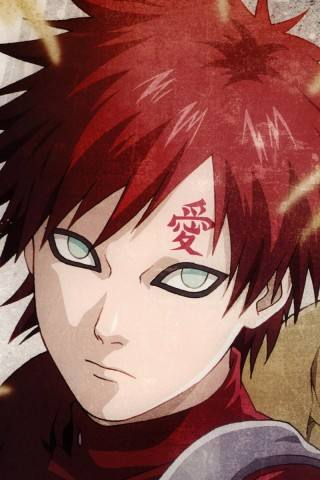gaara: (20, 151, 294, 422)
